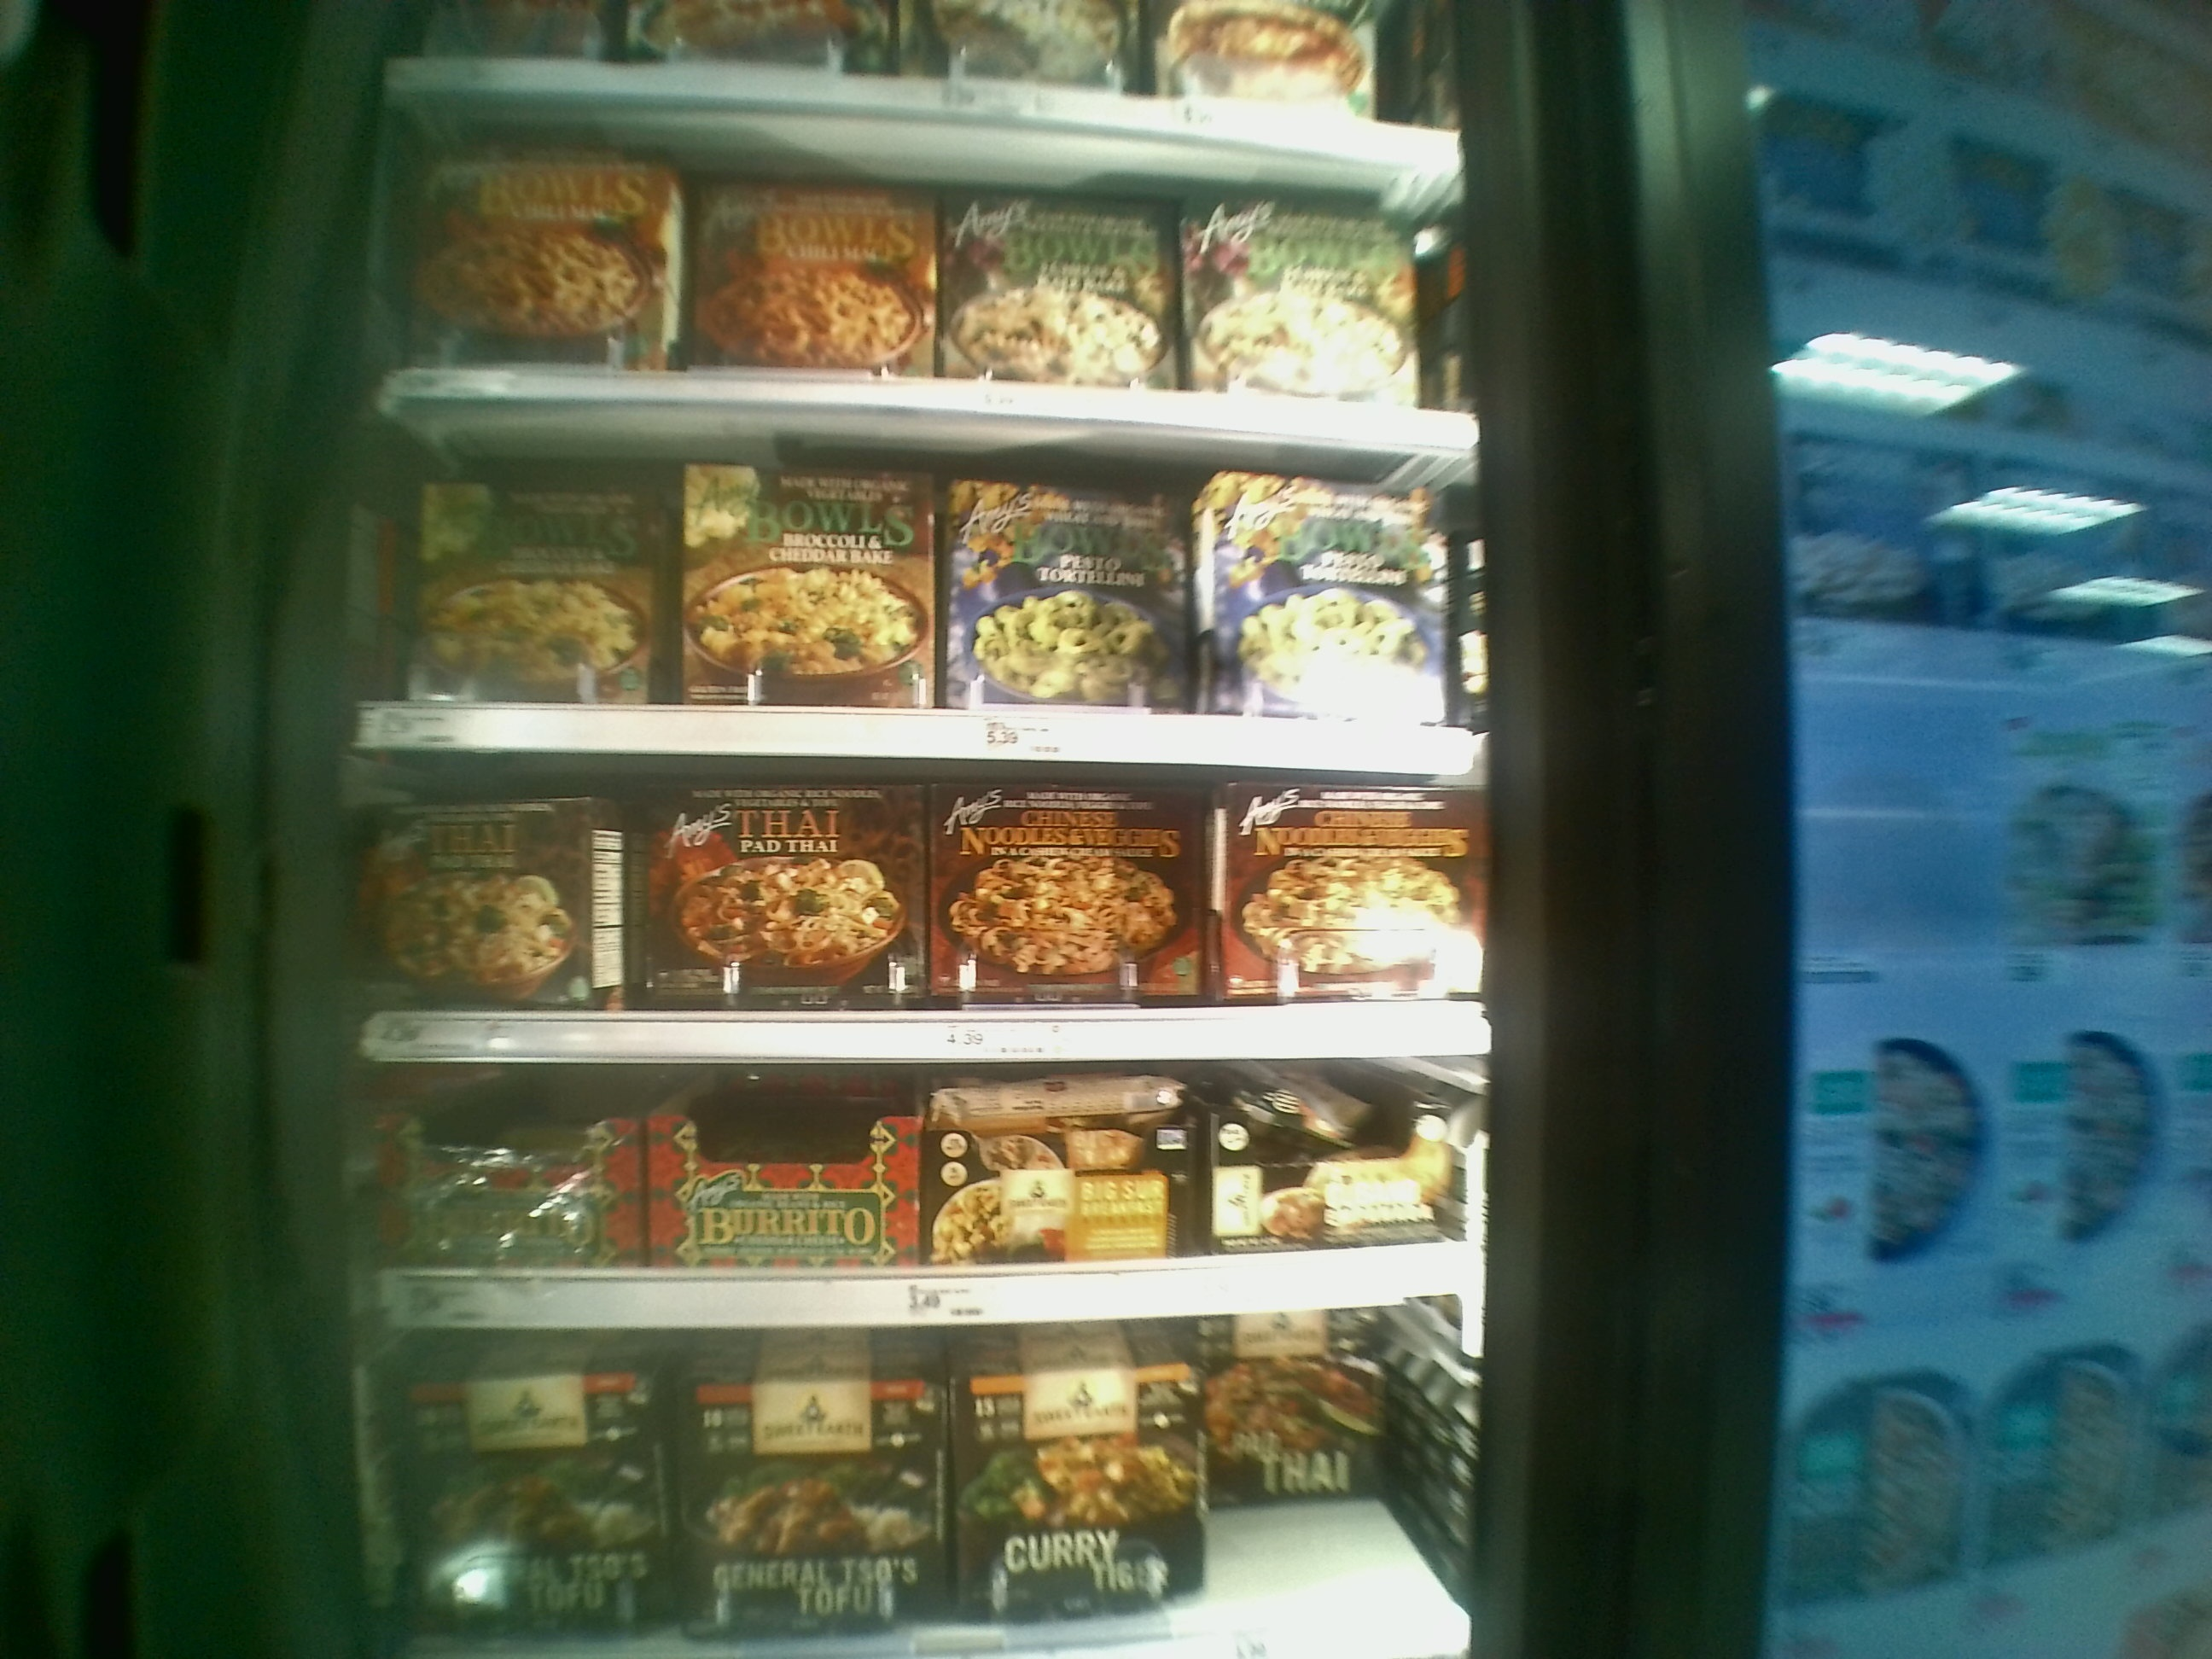frozen-food-shelf: (343, 124, 1526, 460), (329, 460, 1531, 772), (326, 763, 1533, 1060), (329, 1058, 1538, 1333)
